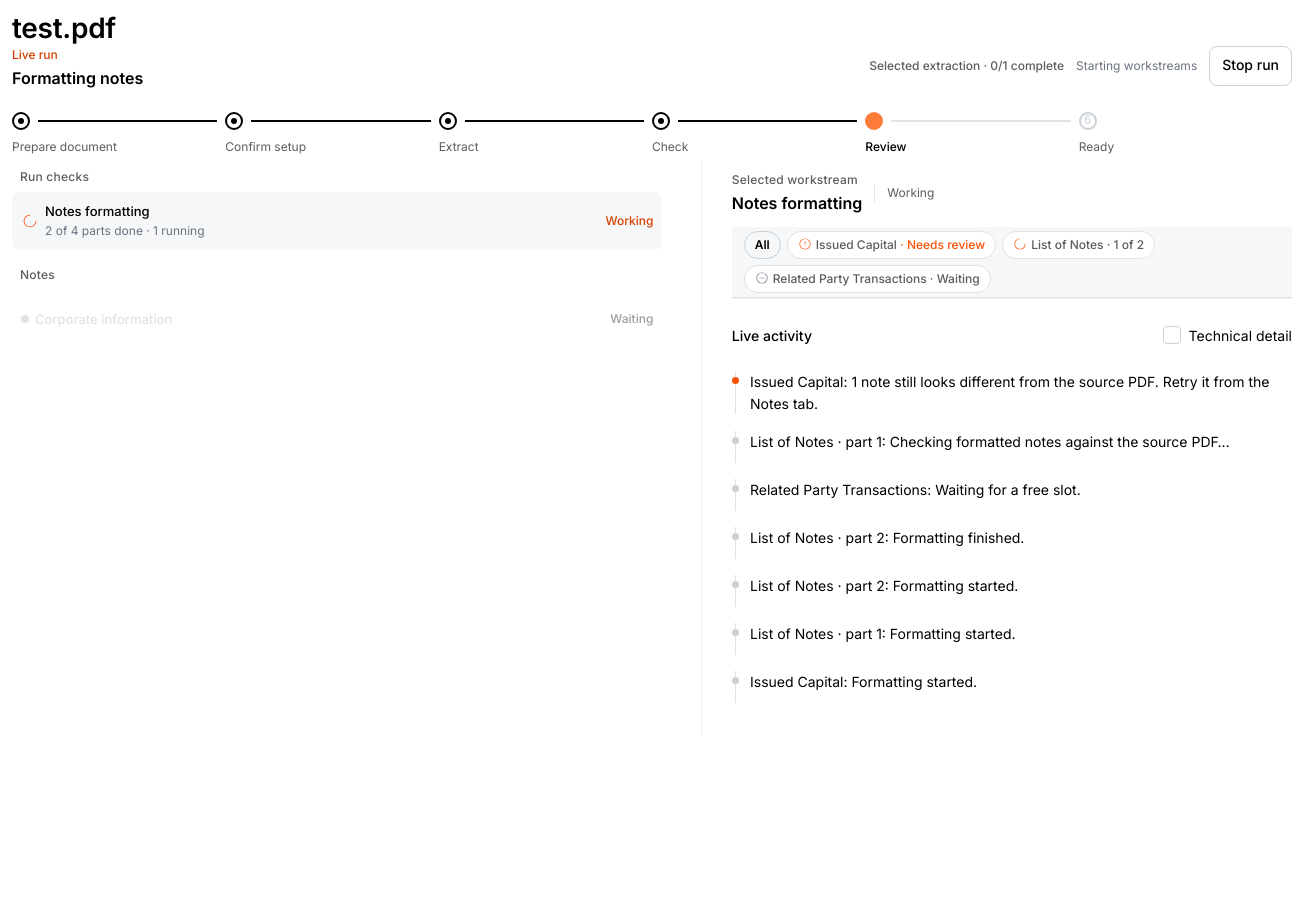
Test: ExtractPage — render-gate regression guards › formatting reads like other workstreams: one chip per sheet, parts and the queue
Expected: the tab "Notes formatting 2 of 4 parts done · 1 running Working" is shown, [12, 192, 662, 250]
Expected: the text "List of Notes · part 1: Checking formatted notes against the source PDF…" is shown, [750, 431, 1284, 452]
Click the tab "Issued Capital · Needs review": (892, 245) [787, 231, 996, 259]
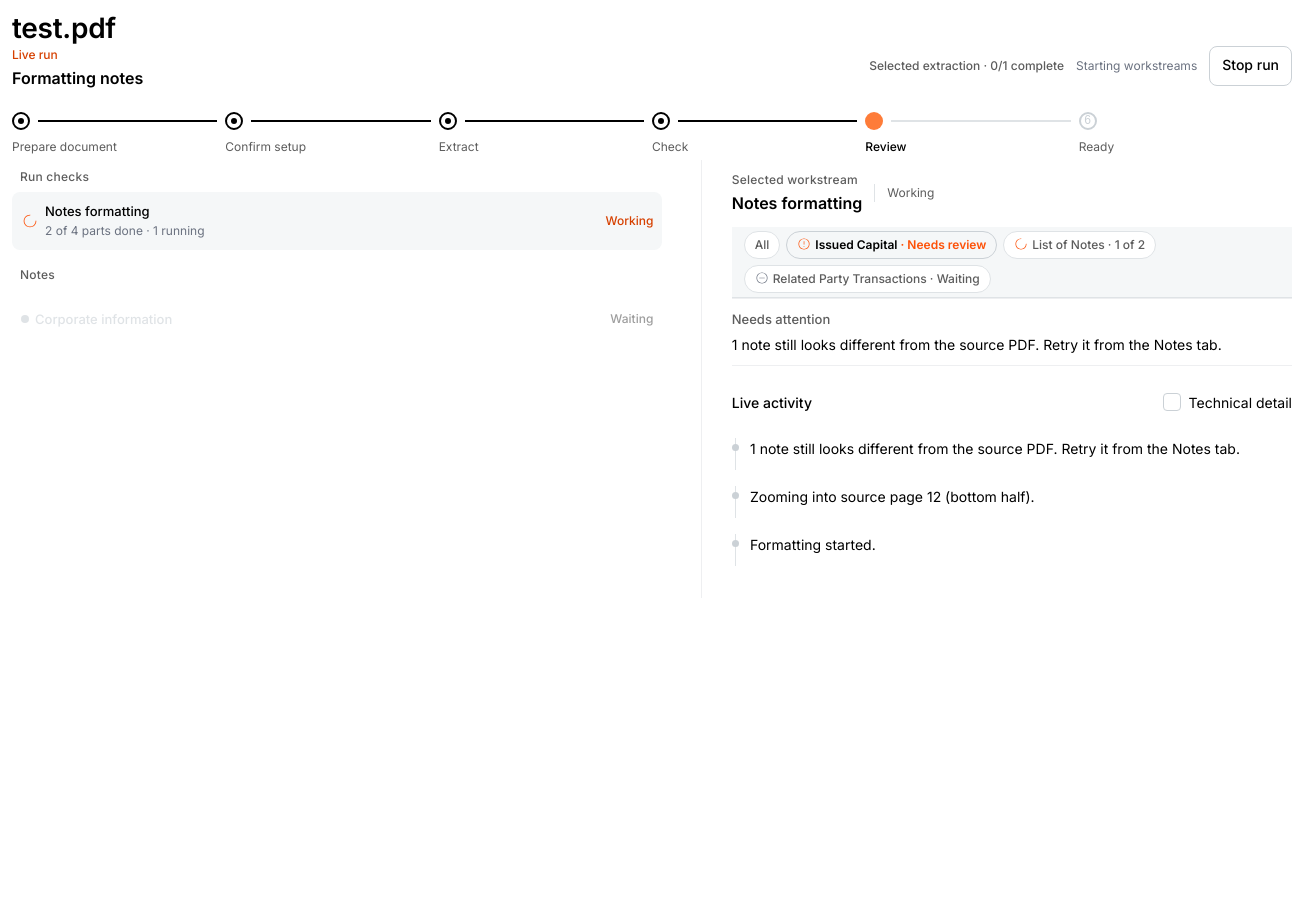
Expected: the text "row 2 is bold" is not shown
Expected: the text "Zooming into source page 12 (bottom half)." is shown, [750, 488, 1034, 505]
Expected: the text "Checking formatted notes" is gone
Click the checkbox labelled "Technical detail": (1172, 402) [1163, 393, 1181, 411]
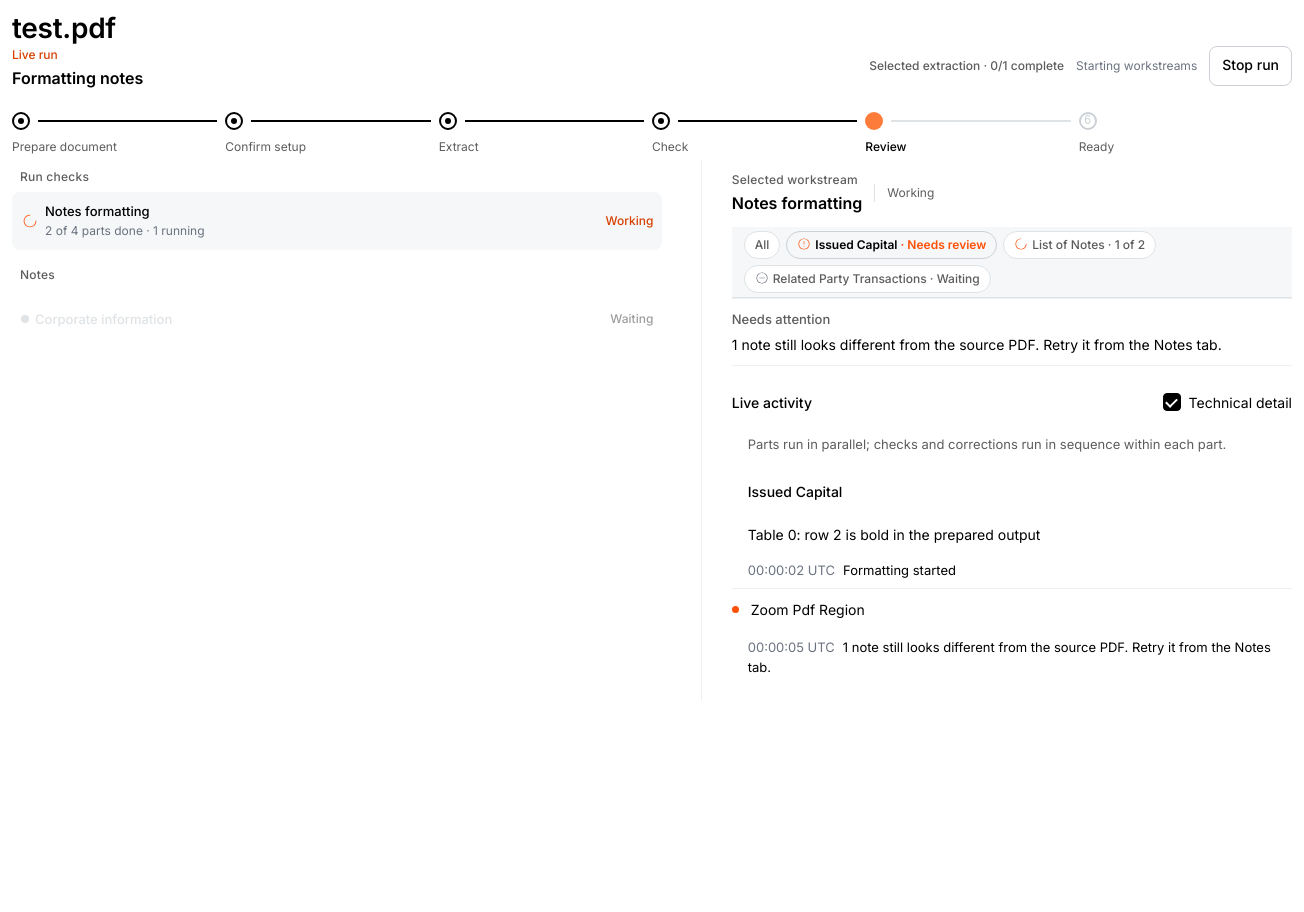
Expected: the text "Table 0: row 2 is bold in the prepared output" is shown, [748, 526, 1040, 543]
Click the checkbox labelled "Technical detail": (1172, 402) [1163, 393, 1181, 411]
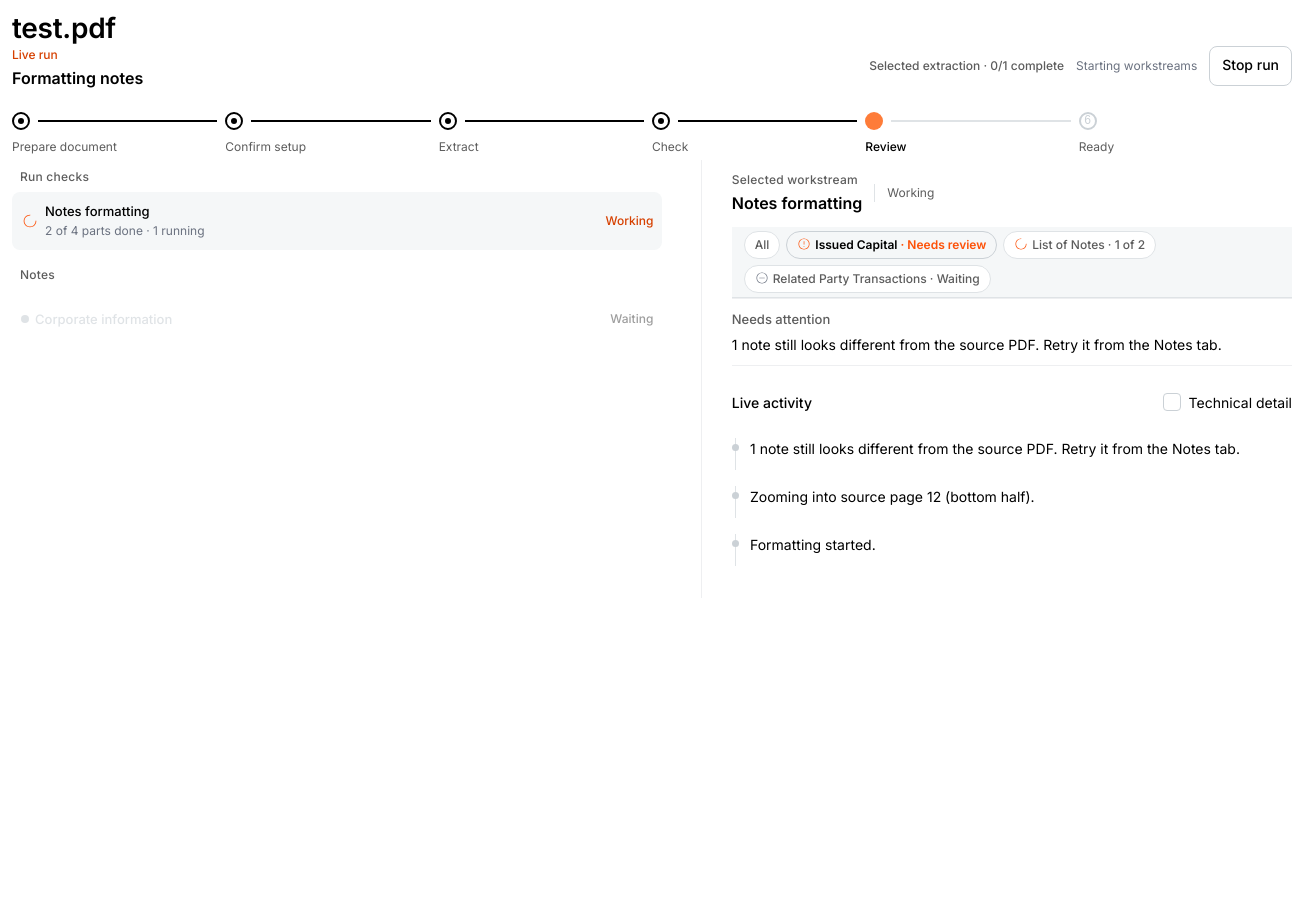
Expected: the text "Table 0: row 2 is bold in the prepared output" is gone
